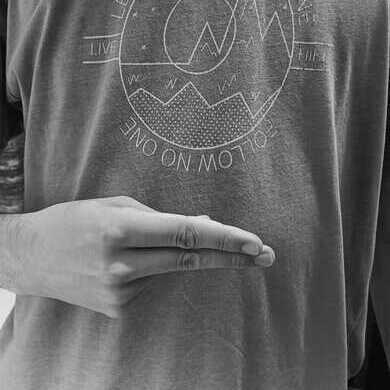H: (43, 194, 277, 322)
